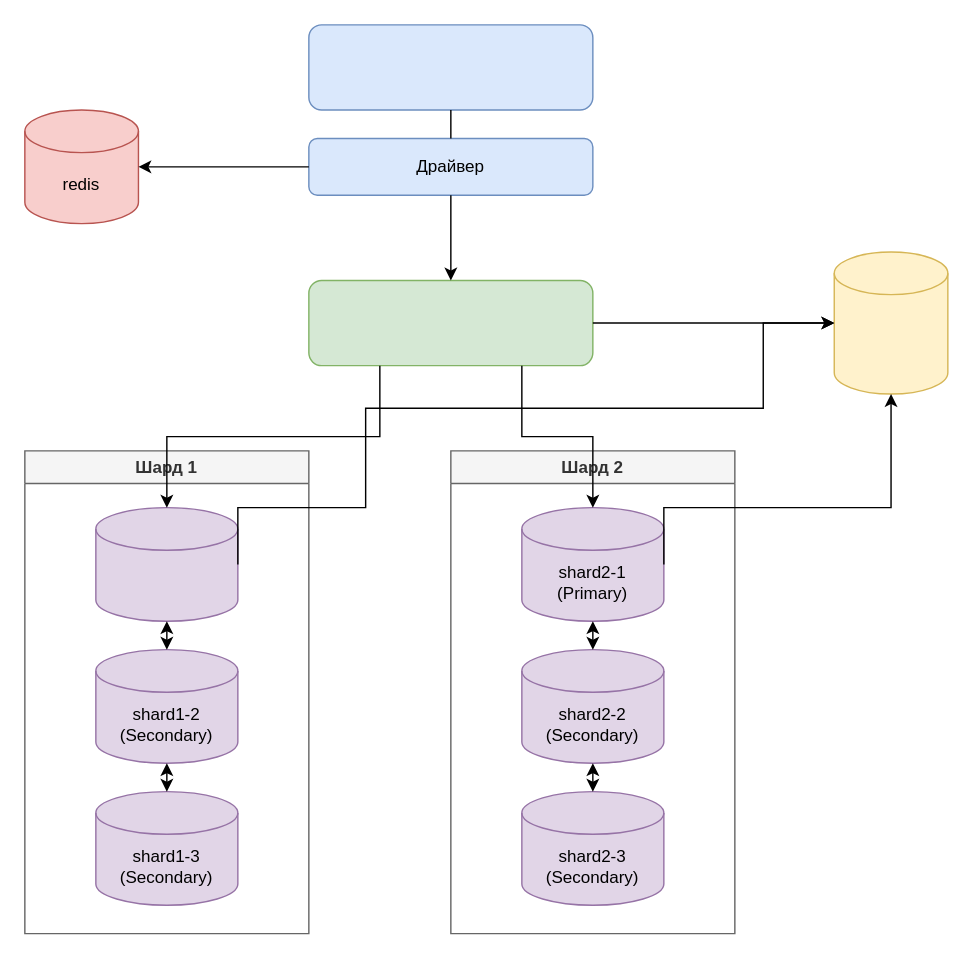
Some shapes in this 973 by 959 pixel diagram are drawn without their labels. The shapes that lost their labels are listed below. From the top down, each one's centre as x and y in pixels, then its label:
point 450,66: Приложение (pymongo-api)
point 450,322: mongos_router
point 890,322: configSrv
point 166,563: shard1-1 (Primary)
